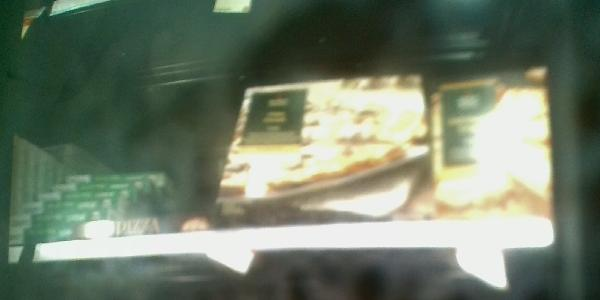pizza: (210, 74, 430, 222), (431, 72, 552, 223)
pizza1: (6, 225, 137, 243), (65, 174, 166, 187), (50, 182, 150, 194), (12, 213, 118, 224), (18, 202, 114, 214), (35, 191, 132, 202)
